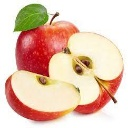apple: (4, 70, 82, 119)
